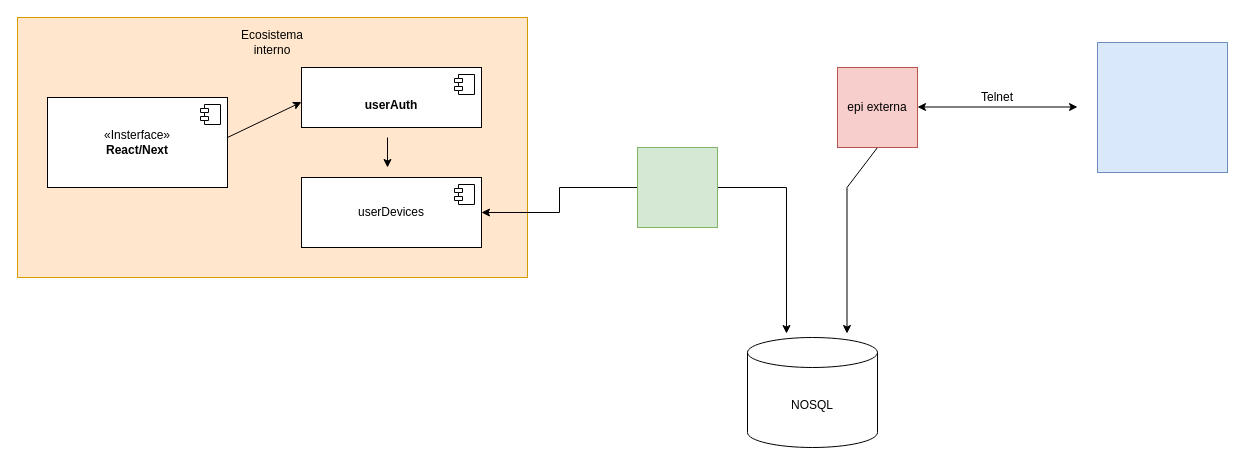
The diagram is 1245 pixels wide and 465 high, and some of its shapes have lost their labels. Each missing label, with the centre of its shape:
"api interna" belongs at point 677,187.
"Dados Externos" belongs at point 1162,107.
